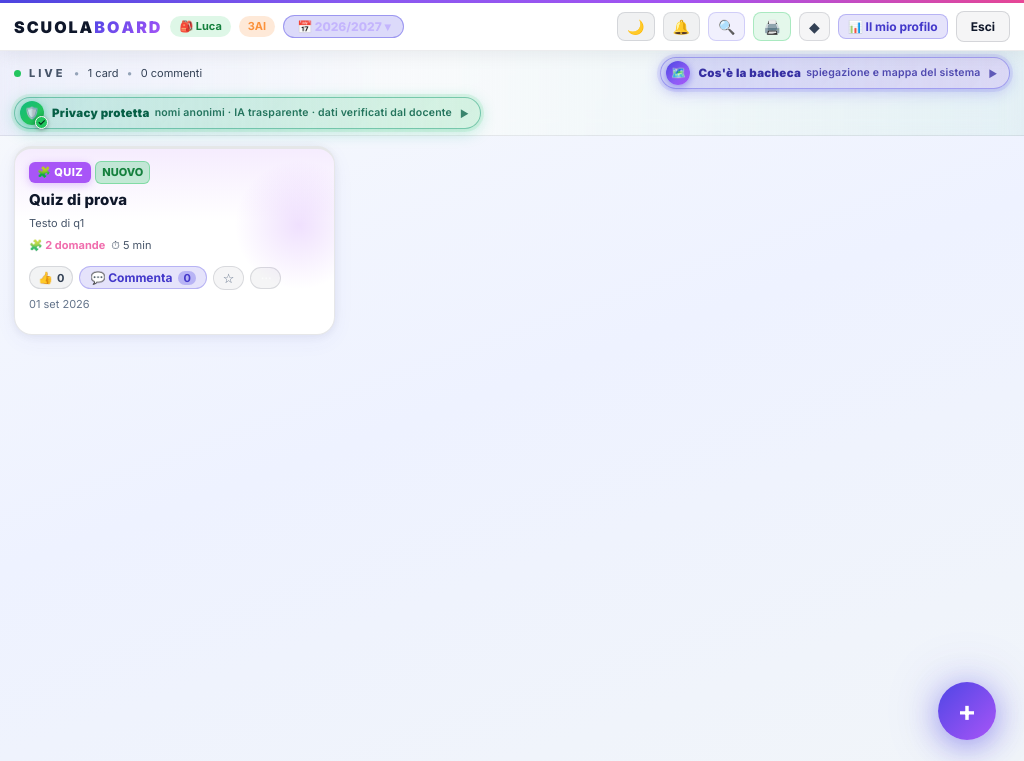
Test case: Quiz interattivo (studente) › risponde a tutte le domande e invia: punteggio salvato e "Quiz completato"
Click the text "Quiz di prova" at (78, 199), box [29, 190, 127, 208]
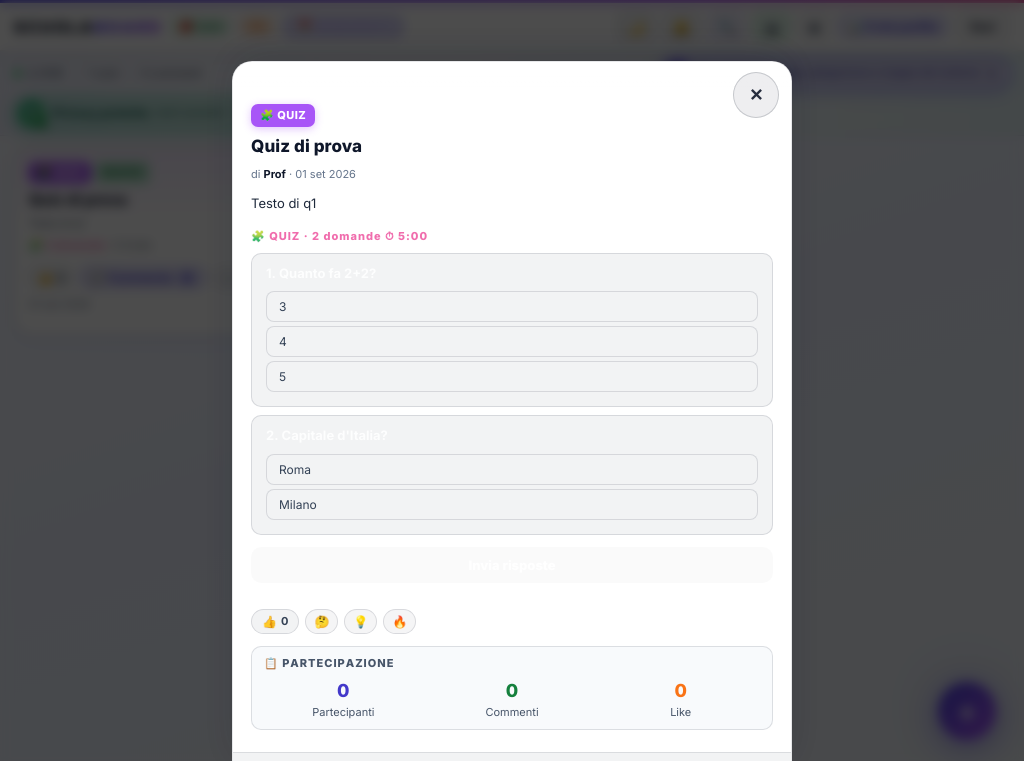
expect the text "🧩 QUIZ · 2 domande ⏱ 5:00" is shown: met, box [251, 230, 428, 244]
Note: Risponde: domanda 1 → "4" (indice 1, corretta), domanda 2 → "Milano" (indice 1, sbagliata)
Click the button "4" at (283, 342), box [266, 326, 758, 358]
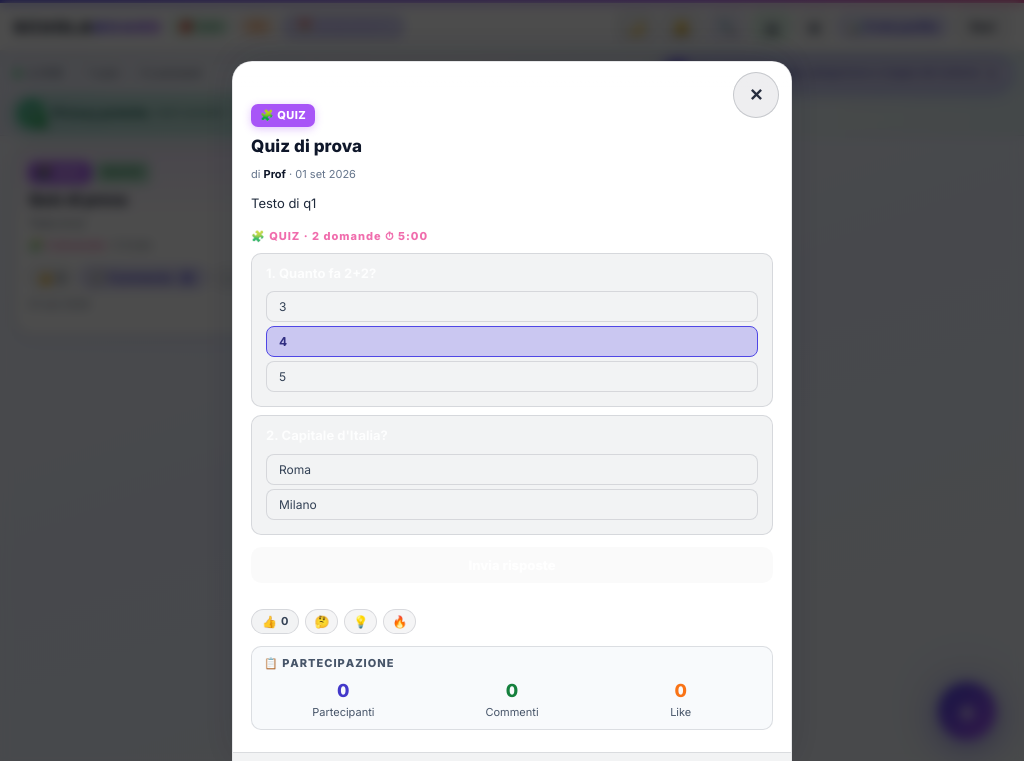
Click the button "Milano" at (298, 504), box [266, 489, 758, 520]
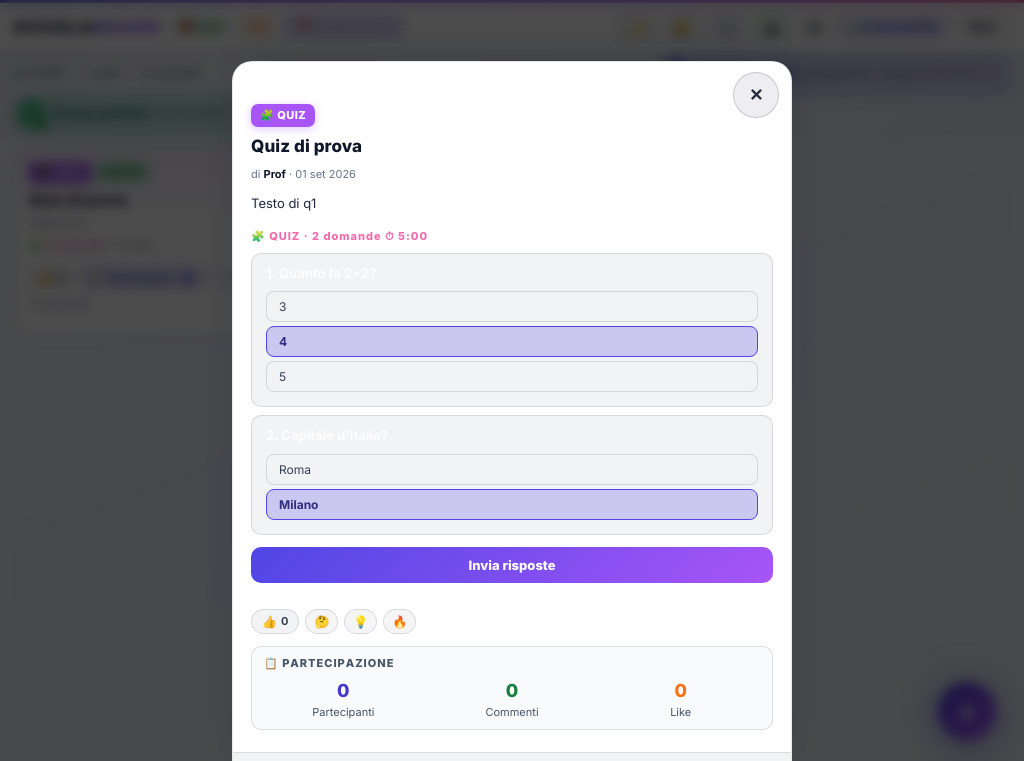
expect the button "Invia risposte" is enabled: met
Click the button "Invia risposte" at (512, 565), box [251, 547, 773, 583]
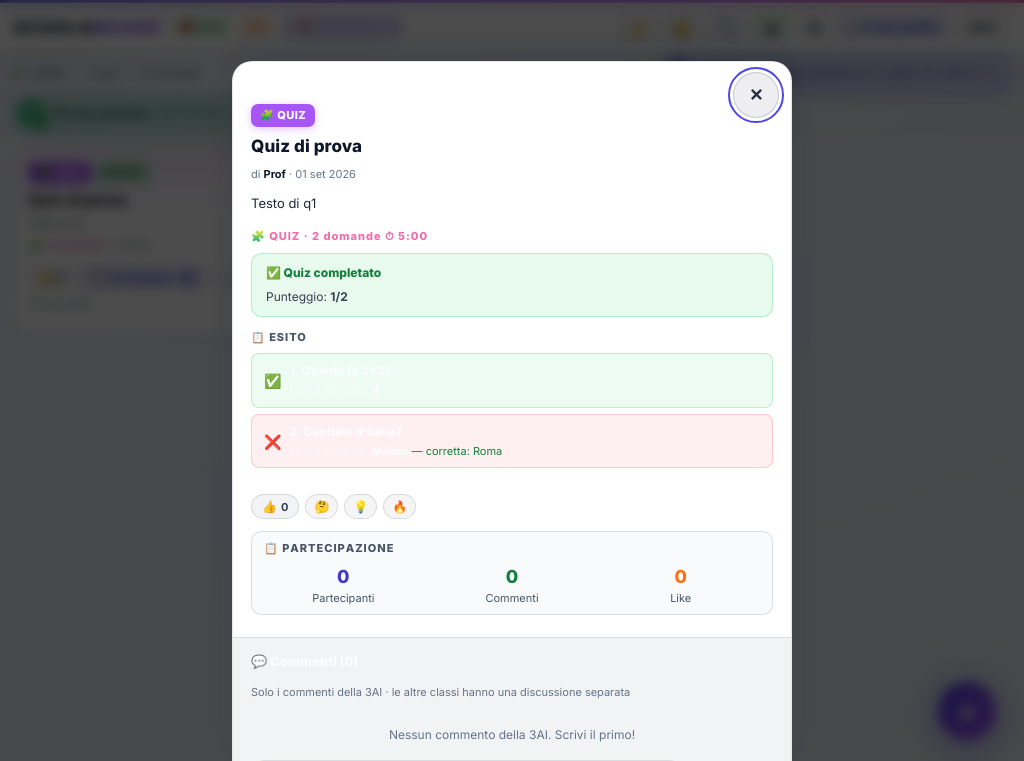
expect the text "✅ Quiz completato" is shown: met, box [266, 265, 381, 280]
expect the text "1/2" is shown: met, box [330, 289, 348, 304]
